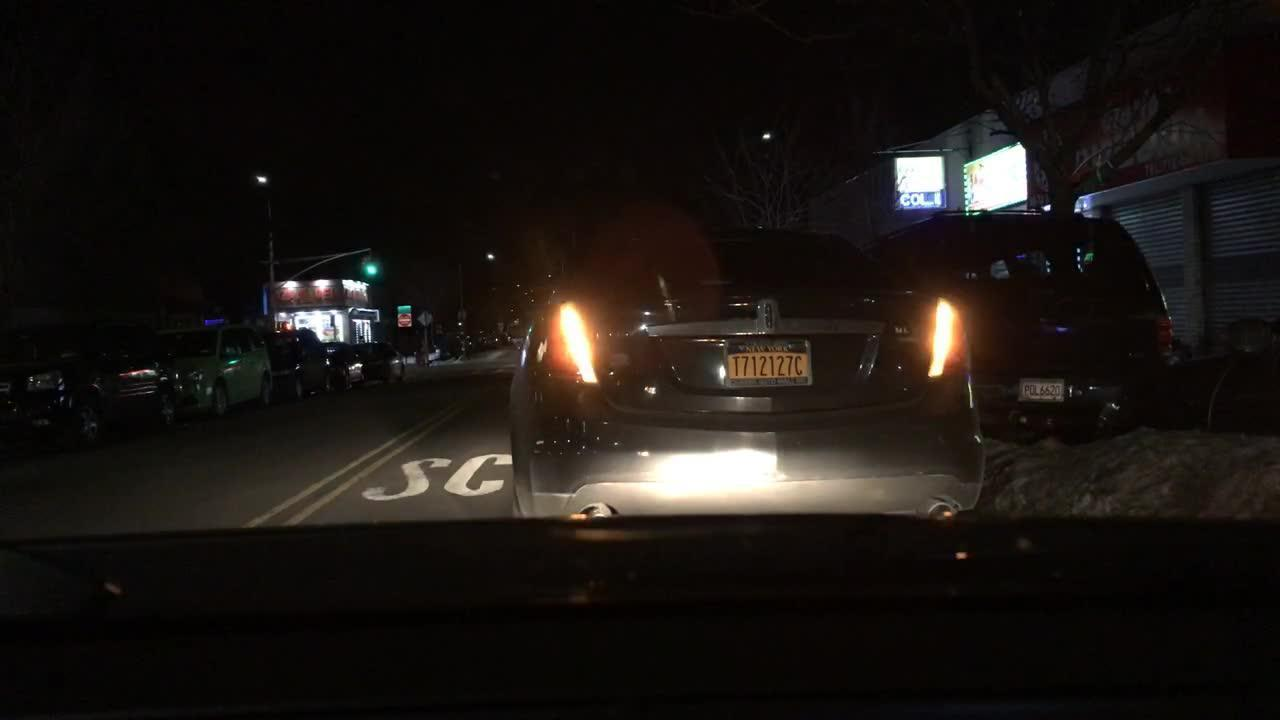lincoln: (749, 295, 794, 342)
